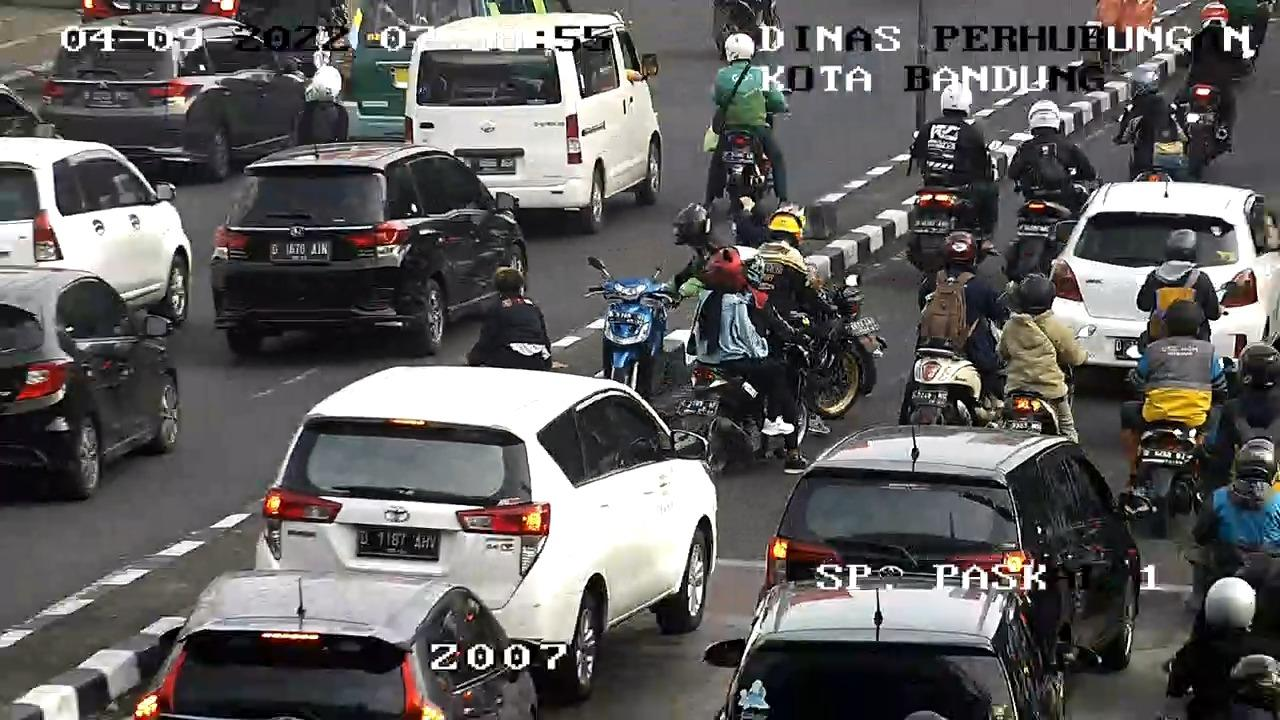accident: (439, 257, 562, 387)
